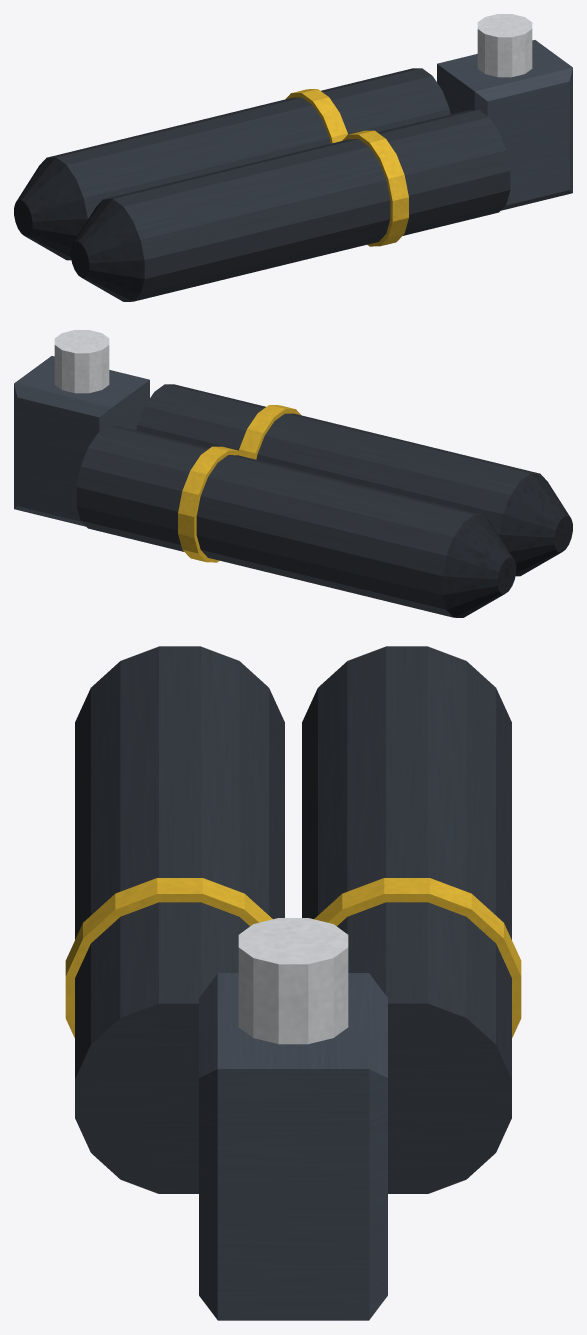
The model's file is tank_twin_bottle_v2.glb.
3 renders of one model, top to bottom at view 1: azimuth 30°, elevation 25°; view 2: azimuth 150°, elevation 25°; view 3: azimuth 270°, elevation 25°, orthographic. The views are drawn at different scales.
Visible parts, largest first — view 1: tank_twin_bottle_mesh; view 2: tank_twin_bottle_mesh; view 3: tank_twin_bottle_mesh.
Part boxes in pixels (x1,y1,x2,y2): tank_twin_bottle_mesh: (14, 14, 572, 301); tank_twin_bottle_mesh: (14, 330, 572, 617); tank_twin_bottle_mesh: (65, 646, 521, 1320).
Bounding box in the file's own units: 0.184 × 0.058 × 0.0723.
Materials: 5 (5 with a texture image).
